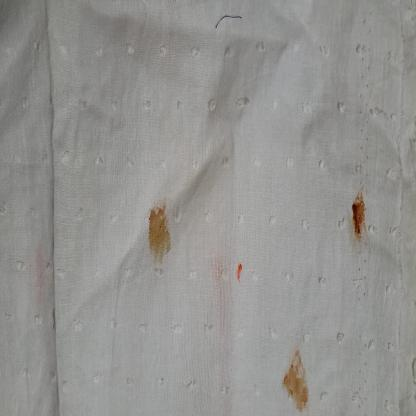spot: (280, 349, 312, 413), (146, 203, 174, 266), (209, 258, 228, 322), (34, 244, 50, 308), (350, 185, 368, 240), (235, 259, 246, 285)
